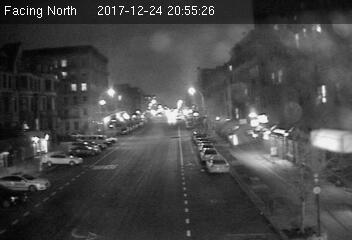car: (206, 155, 229, 172)
